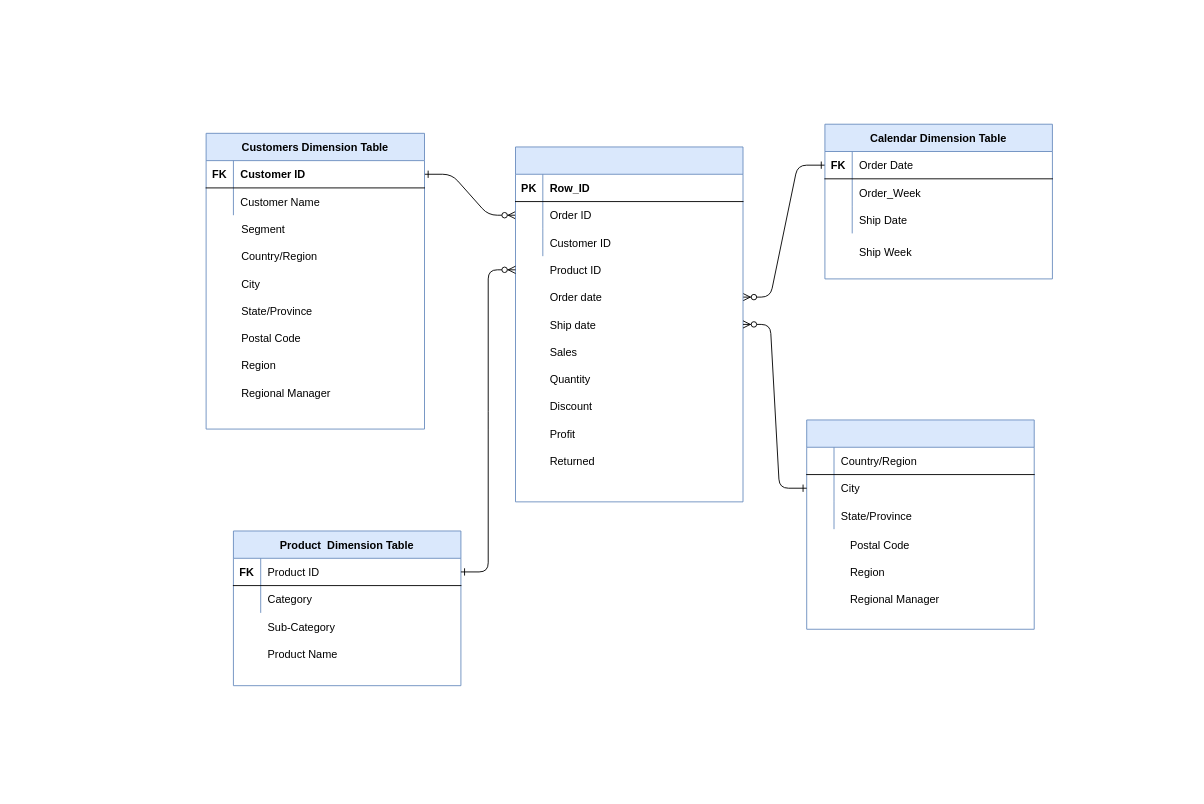
The diagram is 1204 pixels wide and 804 high, and some of its shapes have lost their labels. The shapes that lost their labels are listed below. From the top down, each one's box as (x1, y1, x2, y2) in pixels, then its label:
(515, 146, 743, 502): Sales Fact Table
(806, 419, 1034, 629): Location Dimension Table
